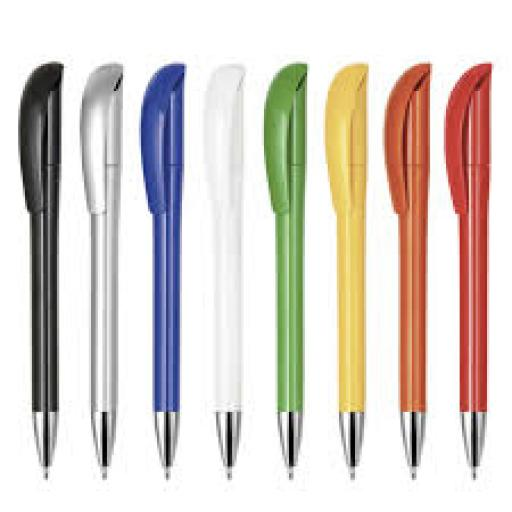tukenmez-kalem: (0, 21, 507, 486)
